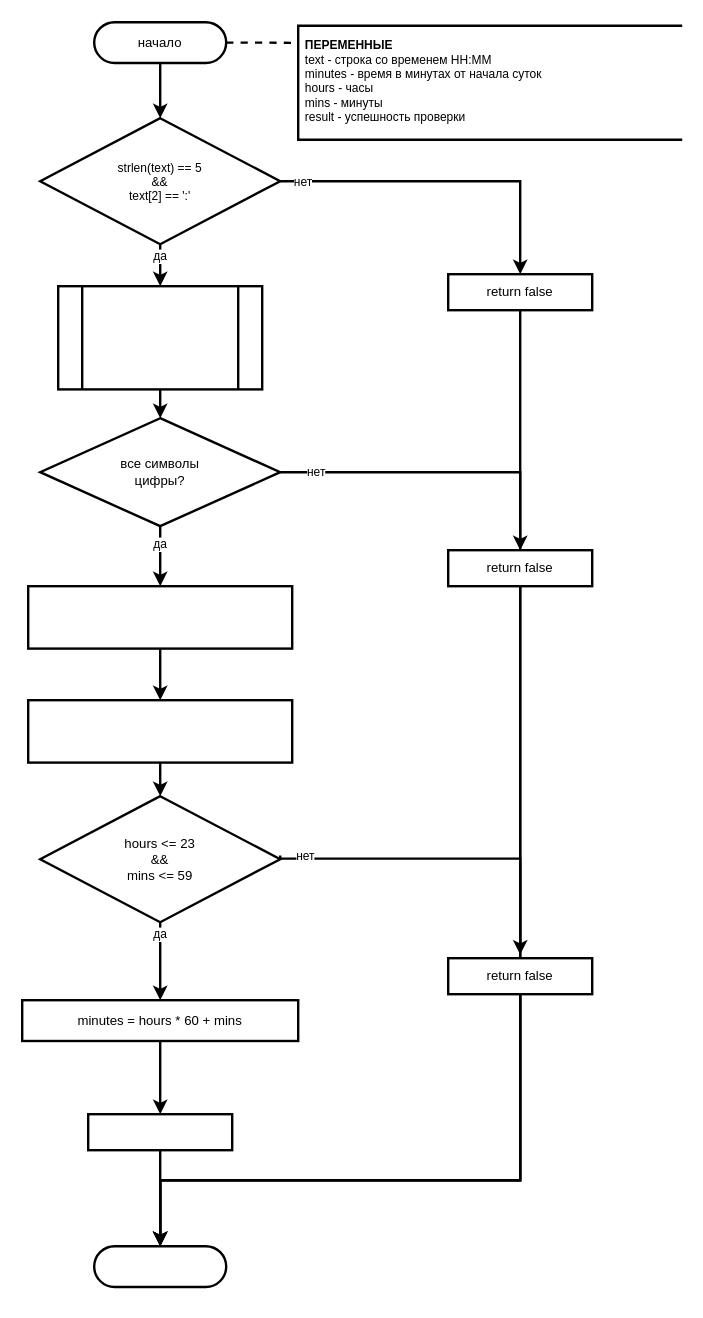
The diagram is 703 pixels wide and 1318 high, and some of its shapes have lost their labels. The centre of each missing label's shape, as x and y in pixels:
hours = (text[0] - '0') * 10 + (text[1] - '0'): point 159,616
isDigit(text[0]) isDigit(text[1]) isDigit(text[3]) isDigit(text[4]): point 159,337
mins = (text[3] - '0') * 10 + (text[4] - '0'): point 159,730
return true: point 159,1131
конец: point 159,1266
